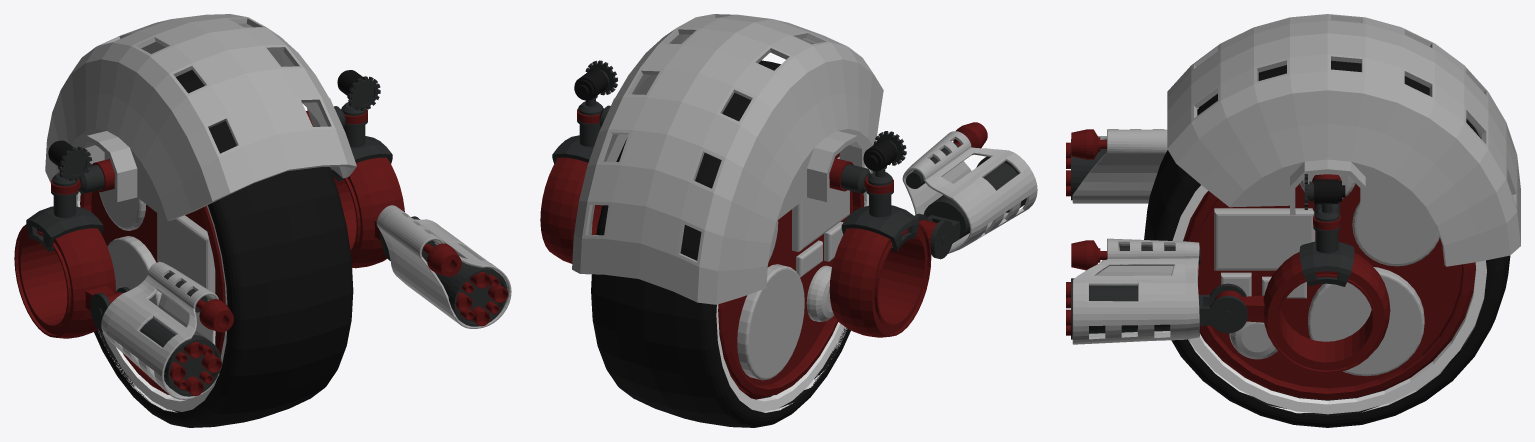
File: Robot.fbx
The picture shows the model from 3 angles, left to right: view 1: azimuth 30°, elevation 25°; view 2: azimuth 150°, elevation 25°; view 3: azimuth 270°, elevation 25°; orthographic projection.
Parts seen in each view (by area): view 1: Casco, Neumatico, Cañon.002, Motor, Cañon.001, Brazo.001, Brazo.002, Abrazadera.001, Abrazadera.002, Gancho.002, Gancho.001, hombro.001 (+1 smaller); view 2: Casco, Neumatico, Motor, Cañon.002, Brazo.001, Brazo.002, Abrazadera.001, Abrazadera.002, Antebrazo.001, hombro.001, Gancho.002; view 3: Casco, Motor, Neumatico, Cañon.001, Brazo.002, Cañon.002, Abrazadera.002, Antebrazo.002.
Part boxes in pixels (<box>): Casco: <box>45,14,356,220</box>; Neumatico: <box>76,70,353,427</box>; Cañon.002: <box>101,262,233,399</box>; Motor: <box>80,110,312,394</box>; Cañon.001: <box>376,205,511,328</box>; Brazo.001: <box>14,224,122,338</box>; Brazo.002: <box>333,157,404,268</box>; Abrazadera.001: <box>26,140,103,251</box>; Abrazadera.002: <box>330,70,392,181</box>; Gancho.002: <box>347,76,380,110</box>; Gancho.001: <box>59,146,92,181</box>; hombro.001: <box>51,164,104,194</box>; Casco: <box>572,14,883,304</box>; Neumatico: <box>591,60,874,427</box>; Motor: <box>718,153,864,399</box>; Cañon.002: <box>902,122,1037,253</box>; Brazo.001: <box>829,219,947,337</box>; Brazo.002: <box>540,157,602,263</box>; Abrazadera.001: <box>841,139,918,251</box>; Abrazadera.002: <box>552,69,607,163</box>; Antebrazo.001: <box>914,213,960,259</box>; hombro.001: <box>840,164,893,194</box>; Gancho.002: <box>585,60,617,95</box>; Casco: <box>1167,14,1520,266</box>; Motor: <box>1183,174,1475,399</box>; Neumatico: <box>1144,60,1510,427</box>; Cañon.001: <box>1066,238,1200,344</box>; Brazo.002: <box>1214,252,1390,373</box>; Cañon.002: <box>1066,129,1167,203</box>; Abrazadera.002: <box>1299,179,1354,286</box>; Antebrazo.002: <box>1198,283,1247,333</box>.
Bounding box in the file's own units: 221 × 228 × 250.
